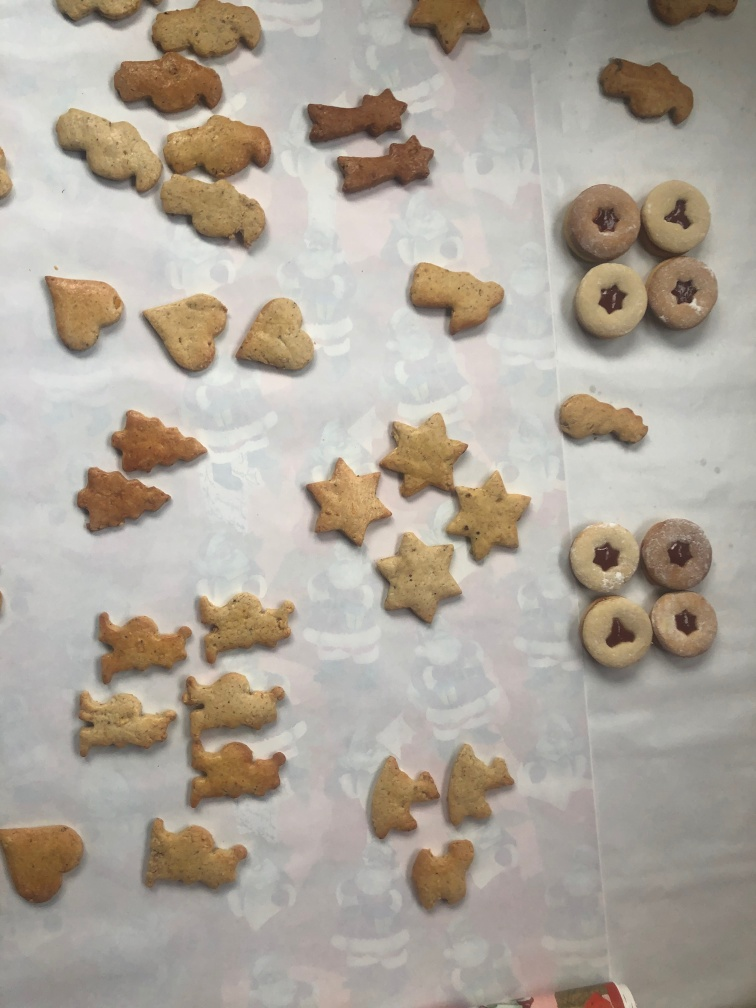angel: (402, 250, 510, 339)
christmas shortbread with jam: (575, 595, 654, 676), (564, 511, 641, 594), (561, 180, 638, 260), (574, 264, 646, 343), (642, 516, 714, 593), (642, 181, 711, 256), (648, 590, 722, 657), (650, 259, 719, 329)
christmas tree: (71, 461, 173, 545), (105, 403, 208, 481)
heart: (137, 288, 232, 383), (34, 270, 130, 360), (231, 295, 319, 386), (3, 815, 89, 908)
lamb: (360, 747, 443, 845), (438, 738, 527, 825), (405, 827, 475, 915)
santa claus: (49, 106, 163, 204), (71, 677, 178, 772), (135, 814, 258, 896), (188, 582, 293, 677), (108, 50, 226, 130), (155, 175, 270, 257), (593, 47, 697, 135), (179, 732, 288, 812), (177, 668, 291, 743), (92, 605, 194, 688), (161, 111, 280, 182), (154, 1, 268, 60)
shooting star: (332, 135, 447, 202), (298, 83, 409, 144)
snowman: (553, 385, 652, 461)
star: (299, 453, 395, 559), (373, 529, 467, 637), (373, 407, 470, 504), (439, 471, 537, 567), (396, 2, 495, 56)
